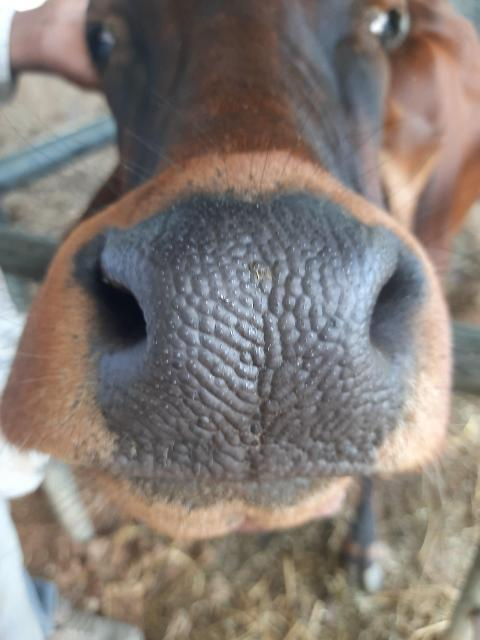Muzzle: (122, 225, 390, 469)
